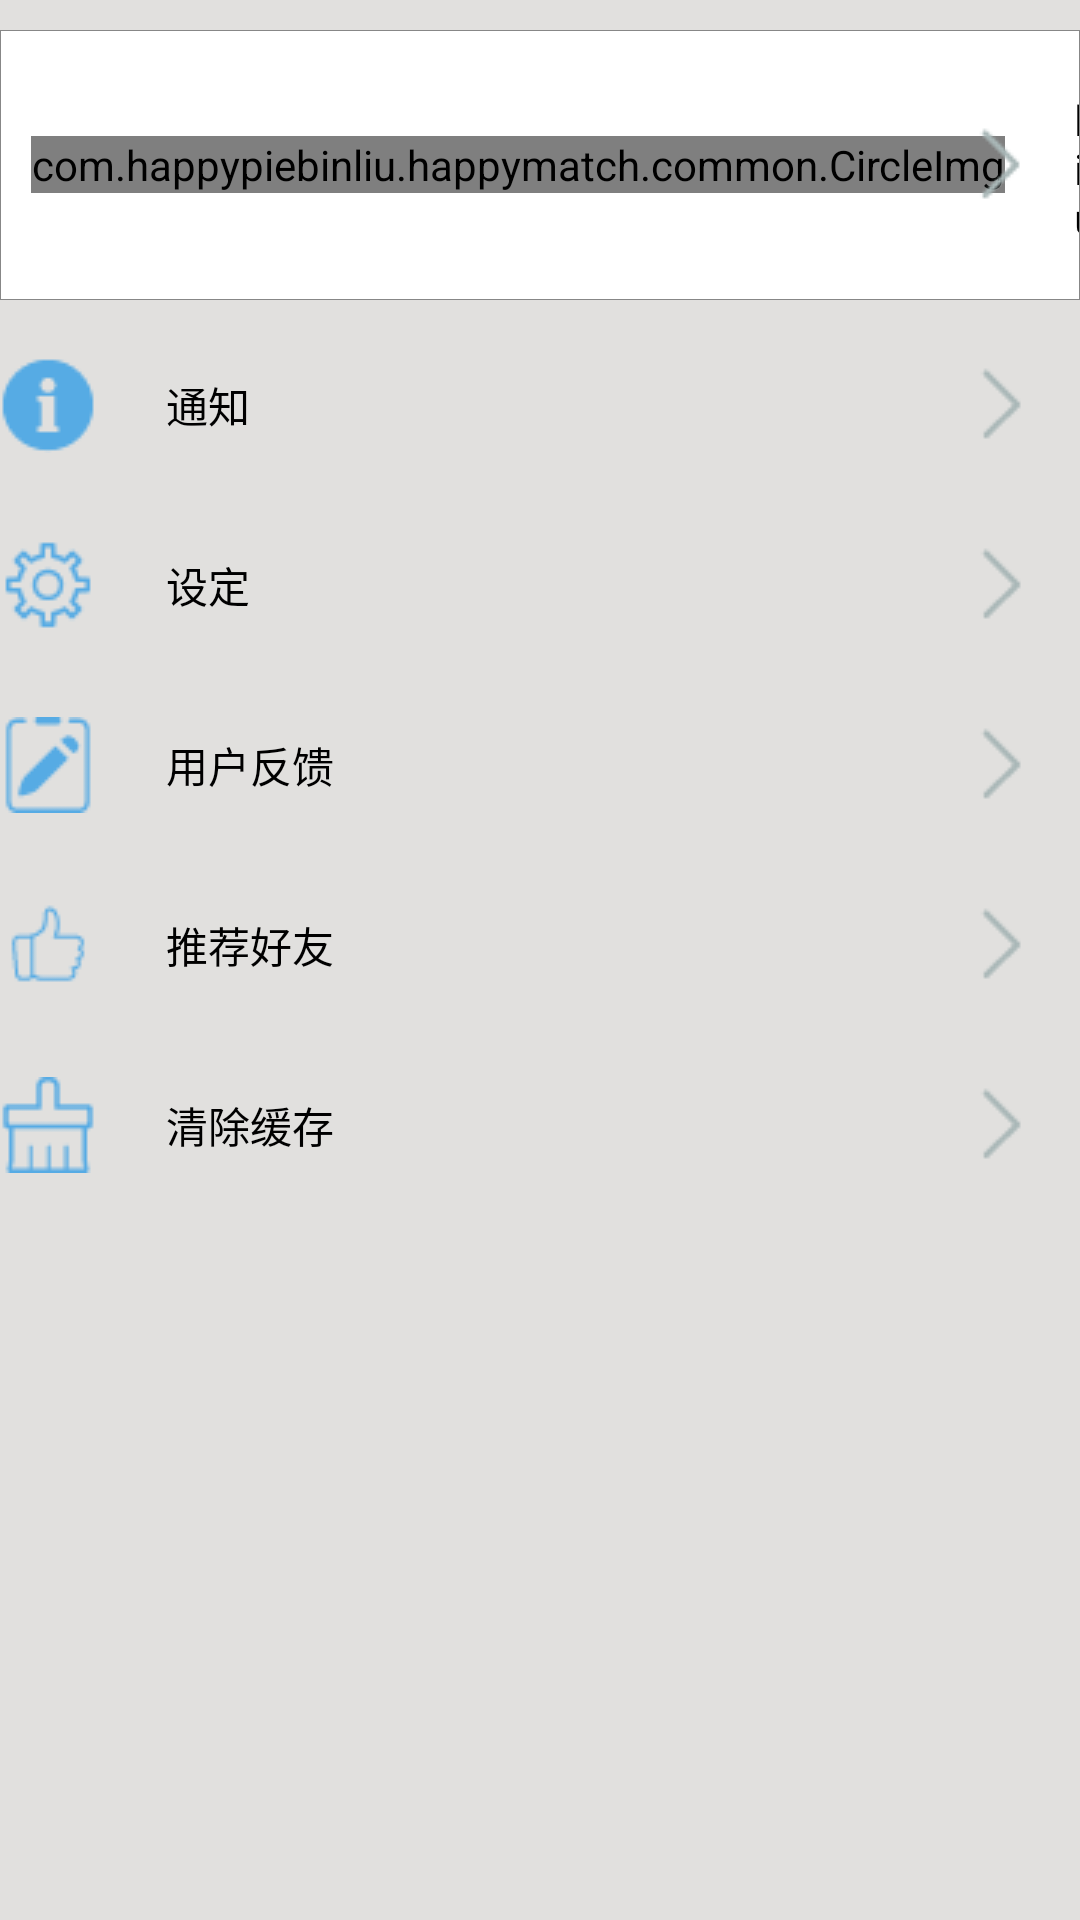

Where to tap for icons on this 1080w x 1920h app screen, as point (x, y):
clearcache: point (48, 1125)
feedback: point (48, 765)
information: point (48, 405)
recommand: point (48, 944)
settings: point (48, 585)
